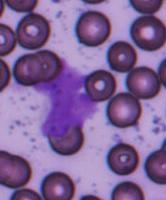D: (34, 61, 100, 140)
